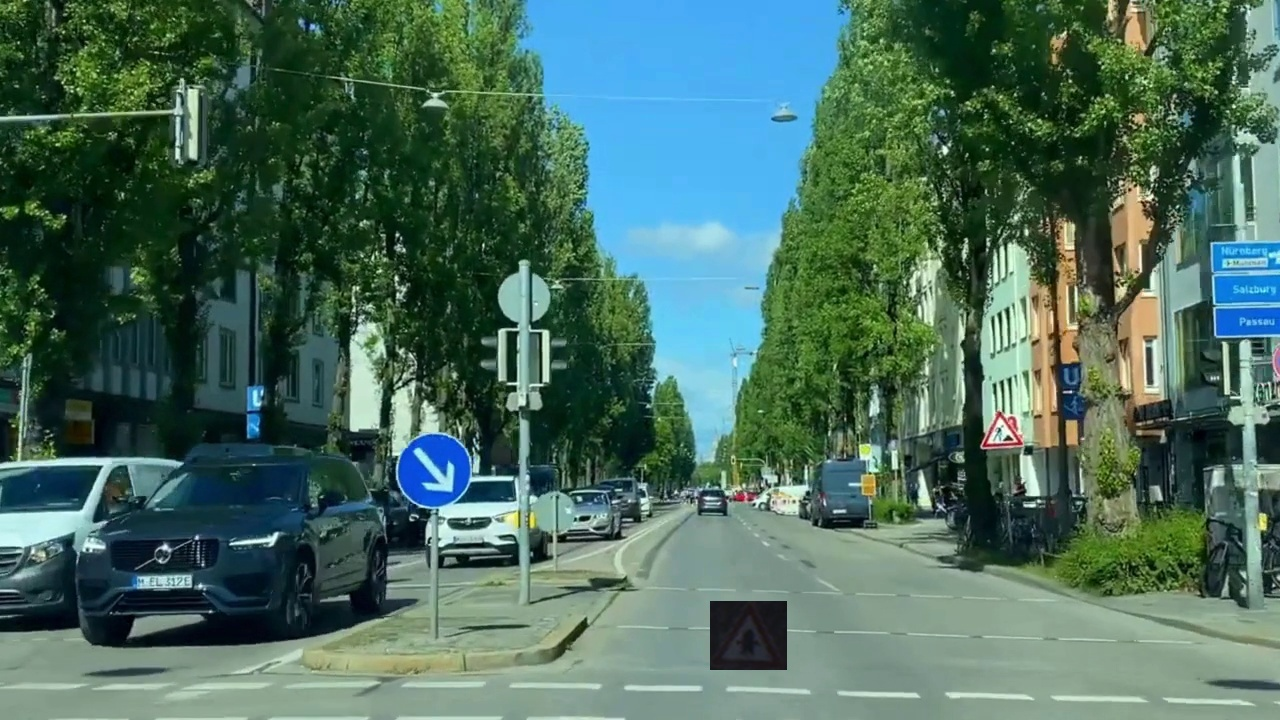Right-of-way: (710, 601, 787, 670)
